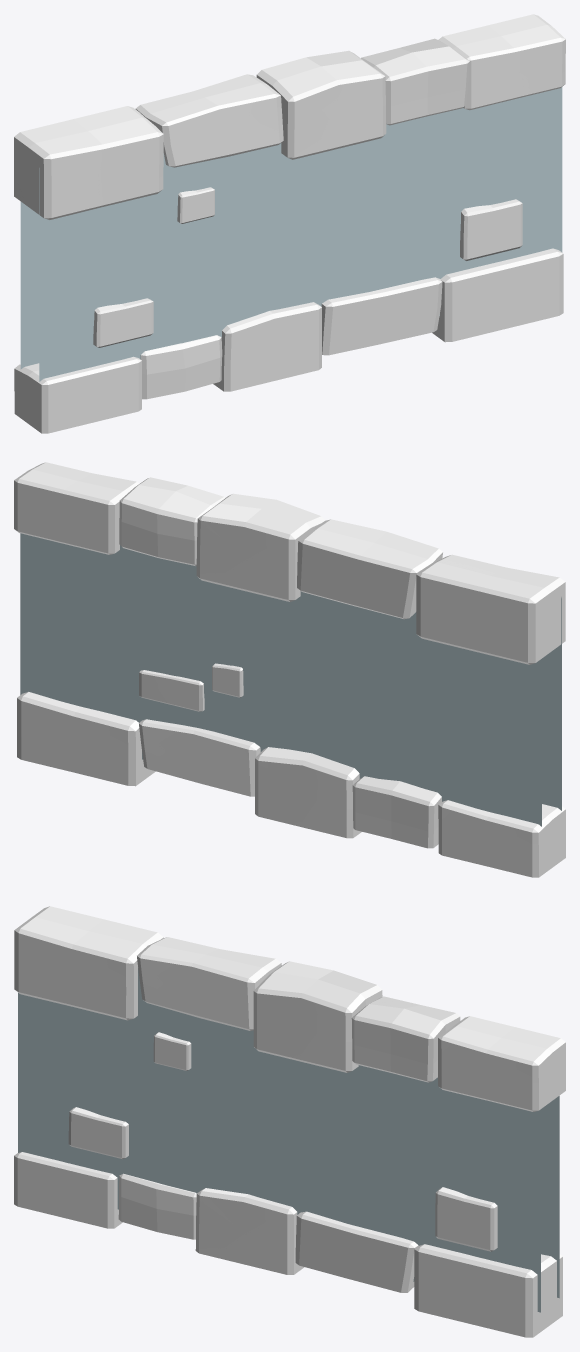
File: wall3333.glb
3 renders of one model, top to bottom at view 1: azimuth 30°, elevation 25°; view 2: azimuth 150°, elevation 25°; view 3: azimuth 330°, elevation 25°, orthographic.
Visible parts, largest first — view 1: wall3; view 2: wall3; view 3: wall3.
Boxes of the visible parts, x1,y1,x2,y2 form: wall3: (14,14,565,433); wall3: (14,462,565,877); wall3: (14,906,565,1337).
Size of the model in its own units: 0.1003 by 0.0534 by 0.0129.
1 material, 1 textured.
